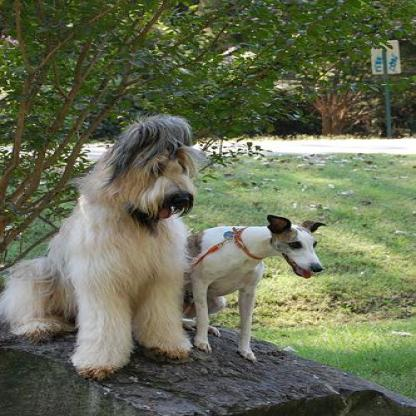briard: (0, 113, 199, 382)
